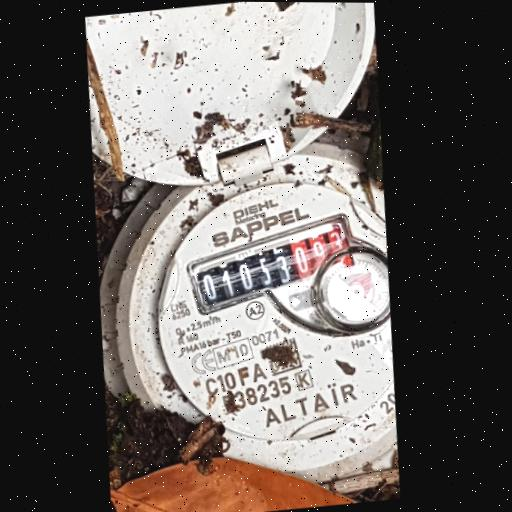0: (232, 253, 264, 296), (287, 238, 317, 280), (196, 267, 226, 307)
1: (213, 260, 245, 301)
3: (268, 243, 299, 286), (322, 225, 350, 254)
5: (250, 248, 281, 293)
9: (305, 232, 334, 269)
border_water_meter_number: (178, 208, 369, 320)
